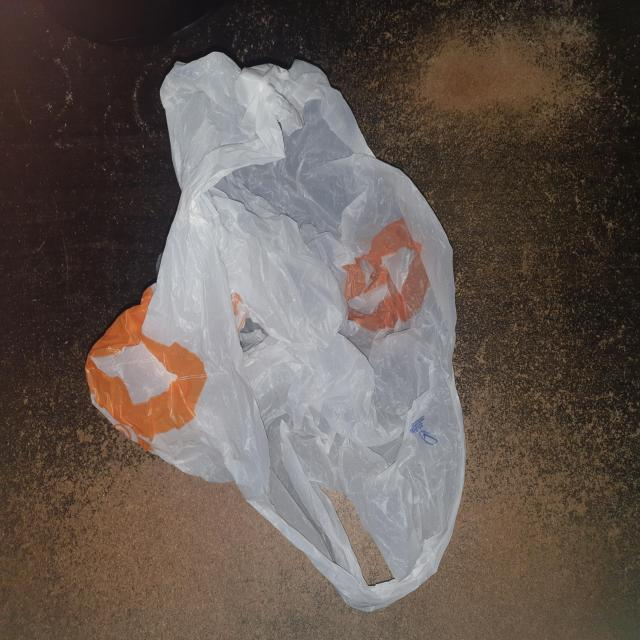plastic bag: (86, 49, 468, 615)
